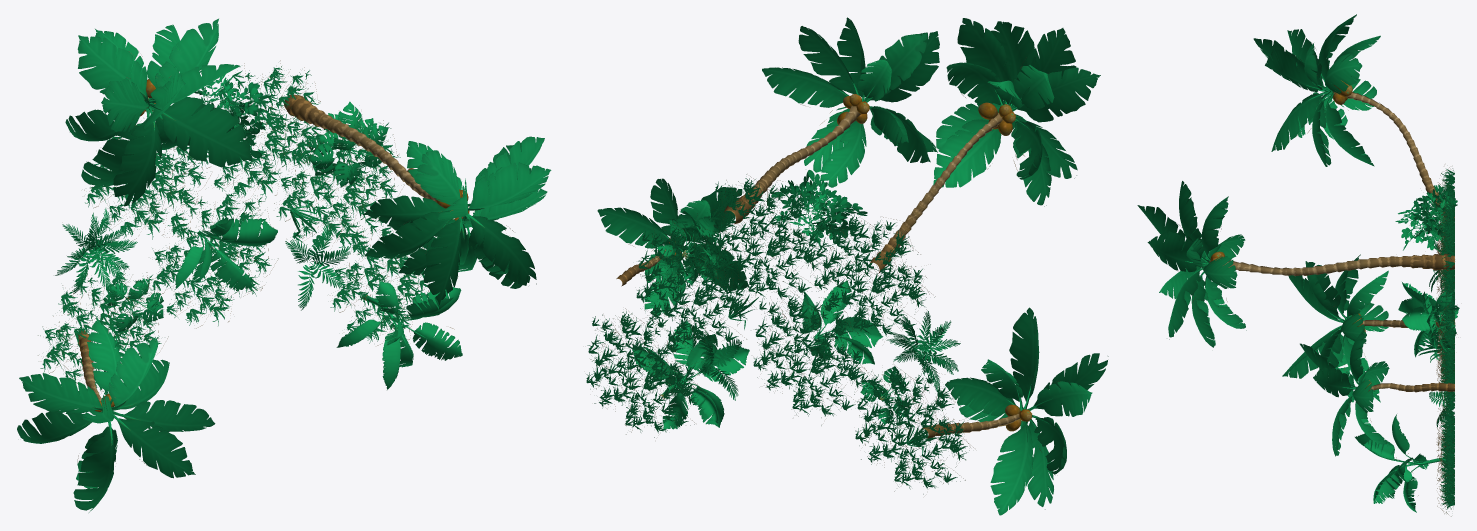
File: Thảm thực vật.glb
3 views of the same model, side by side, from view 1: azimuth 30°, elevation 25°; view 2: azimuth 150°, elevation 25°; view 3: azimuth 270°, elevation 25° (orthographic). The views are drawn at different scales.
Visible parts, largest first — view 1: Tree_2, Tree_1, Tree_0; view 2: Tree_2, Tree_1, Tree_0; view 3: Tree_2, Tree_0, Tree_1.
Boxes of the visible parts, <box> form: Tree_2: <box>17,18,551,512</box>; Tree_1: <box>55,101,462,389</box>; Tree_0: <box>78,79,486,445</box>; Tree_2: <box>586,17,1108,515</box>; Tree_1: <box>632,210,960,429</box>; Tree_0: <box>616,82,1052,441</box>; Tree_2: <box>1137,14,1457,516</box>; Tree_0: <box>1185,73,1455,484</box>; Tree_1: <box>1355,234,1459,512</box>.
Bounding box in the file's own units: 12.92 × 11.44 × 8.68.
3 materials, 3 textured.
